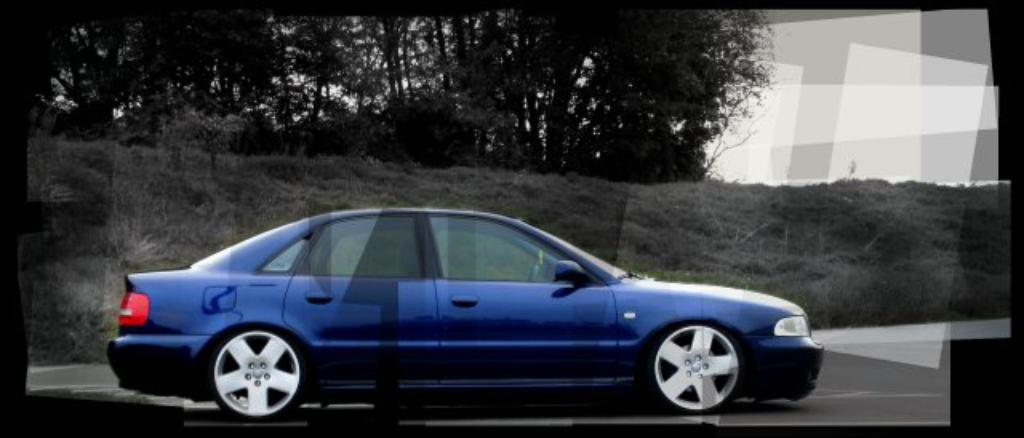mobil: (99, 178, 888, 428)
